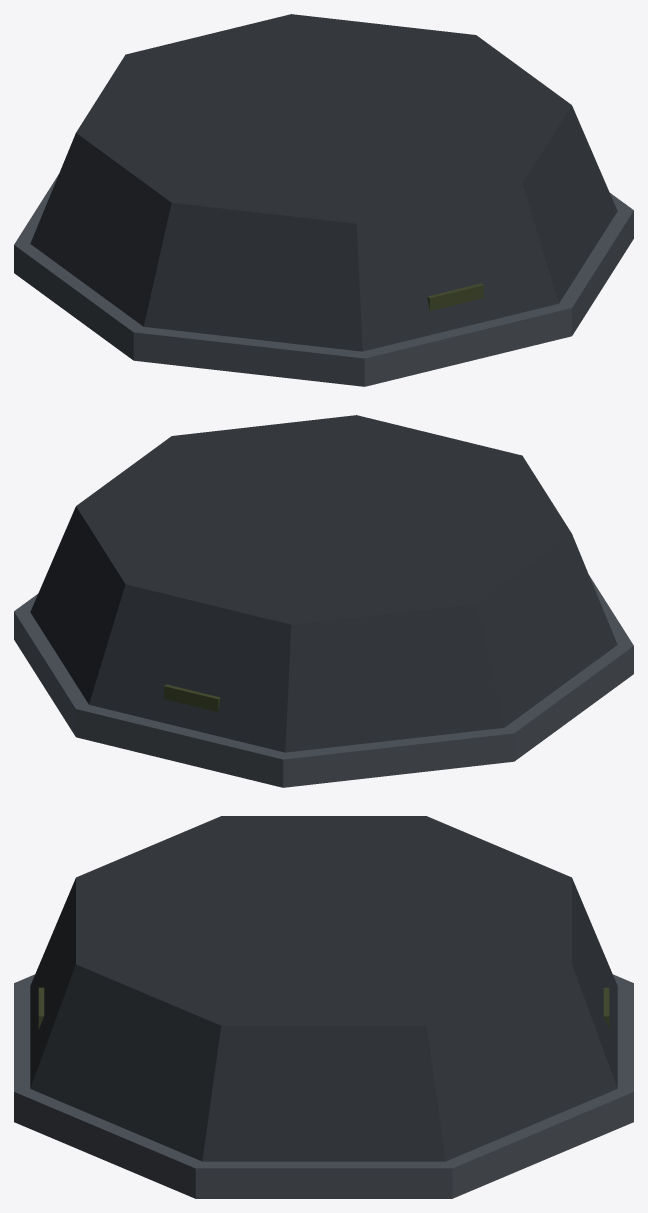
The model's file is inf_warden_plate_shoulder_r.fbx.
3 views of the same model, one above another, from view 1: azimuth 30°, elevation 25°; view 2: azimuth 150°, elevation 25°; view 3: azimuth 270°, elevation 25° (orthographic). The views are drawn at different scales.
Parts seen in each view (by area): view 1: inf_warden_plate_shoulder_r; view 2: inf_warden_plate_shoulder_r; view 3: inf_warden_plate_shoulder_r.
Part boxes in pixels (box(x1,y1,x2,y2)): inf_warden_plate_shoulder_r: box(14, 14, 633, 386); inf_warden_plate_shoulder_r: box(14, 415, 633, 787); inf_warden_plate_shoulder_r: box(14, 816, 633, 1198).
Bounding box in the file's own units: 111 × 30 × 111.
